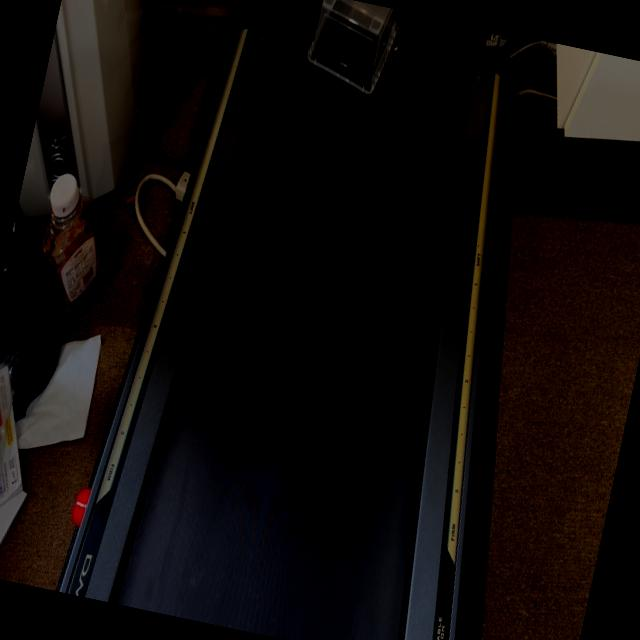Recycle: (297, 0, 404, 99)
